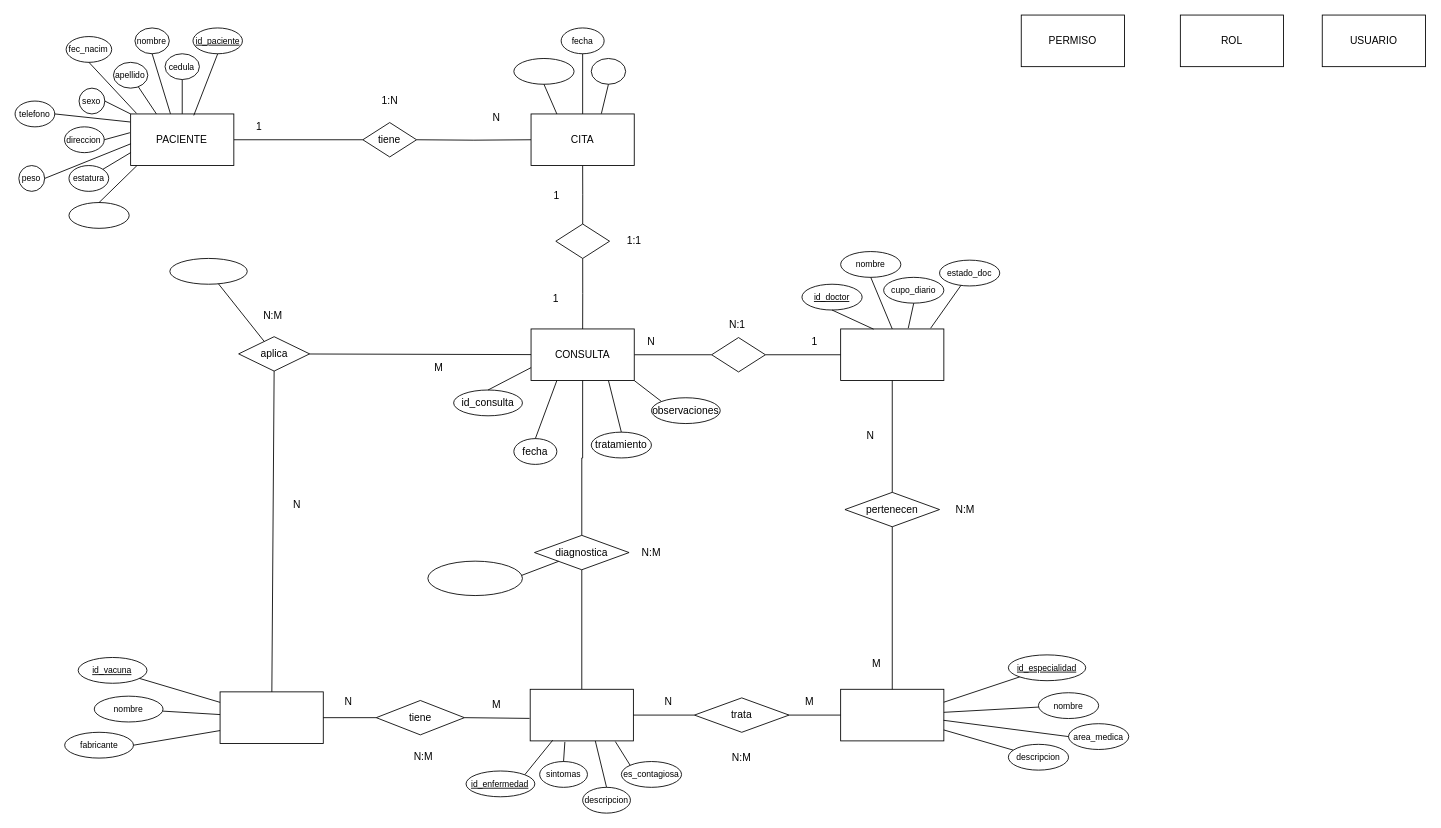
The diagram is 1441 pixels wide and 828 high, and some of its shapes have lost their labels. The centre of each missing label's shape, as x and y in pixels:
"DOCTOR" belongs at pixel 892 354.
"ENFERMEDAD" belongs at pixel 581 714.
"Especialidad" belongs at pixel 892 714.
"estado" belongs at pixel 608 71.
"fec_aplicacion" belongs at pixel 208 271.
"genera" belongs at pixel 582 240.
"id_cita" belongs at pixel 543 71.
"id_diagnostico" belongs at pixel 474 578.
"realiza" belongs at pixel 738 354.
"tipo_sangre" belongs at pixel 98 215.
"VACUNA" belongs at pixel 271 717.
